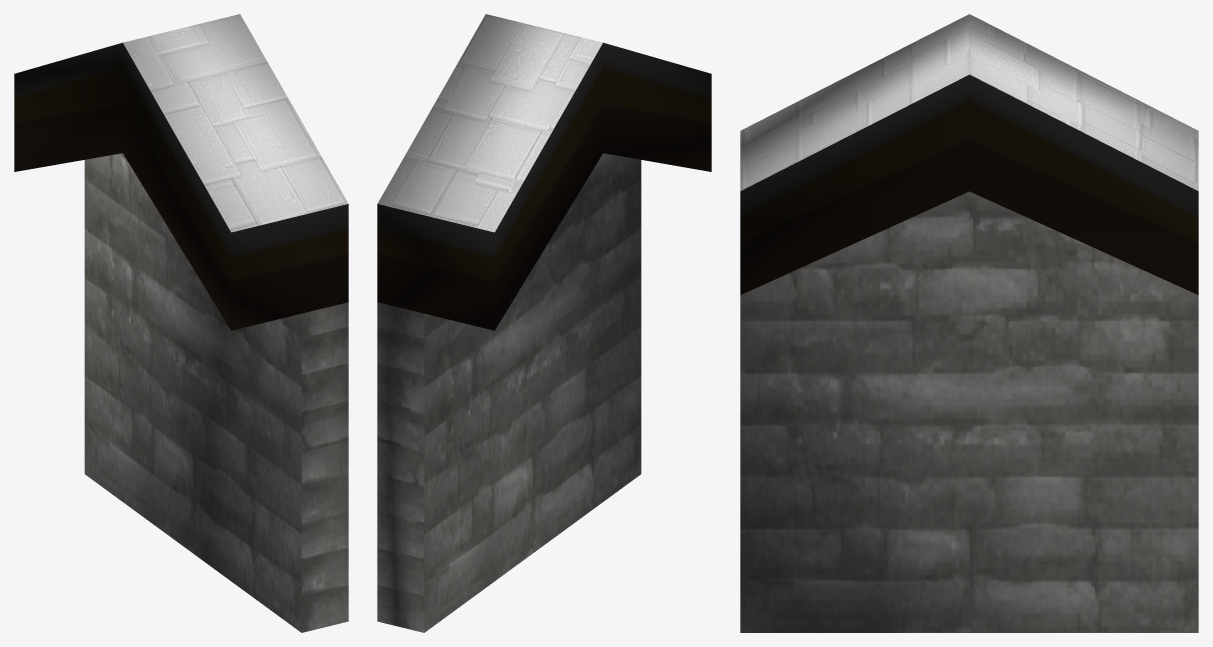
3 renders of one model, left to right at view 1: azimuth 30°, elevation 25°; view 2: azimuth 150°, elevation 25°; view 3: azimuth 270°, elevation 25°, orthographic. The views are drawn at different scales.
Visible parts, largest first — view 1: 5480; view 2: 5480; view 3: 5480.
Boxes of the visible parts, left/top/right/bottom form: 5480: left=14, top=14, right=348, bottom=632; 5480: left=377, top=14, right=711, bottom=632; 5480: left=740, top=14, right=1198, bottom=632.
Size of the model in its own units: 0.4 by 1.72 by 1.28.
Materials: 3 (2 with a texture image).
